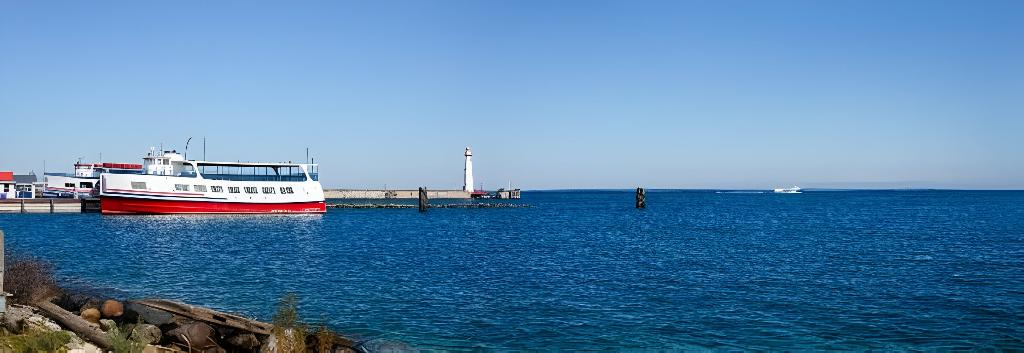PassengerShip: (88, 143, 332, 221), (772, 183, 806, 197)
